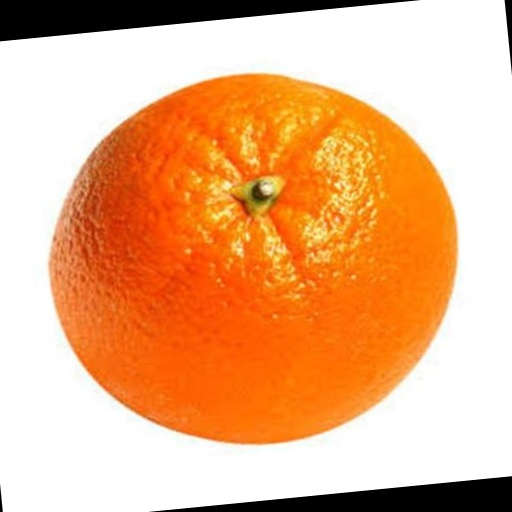fruit: (51, 75, 456, 443)
